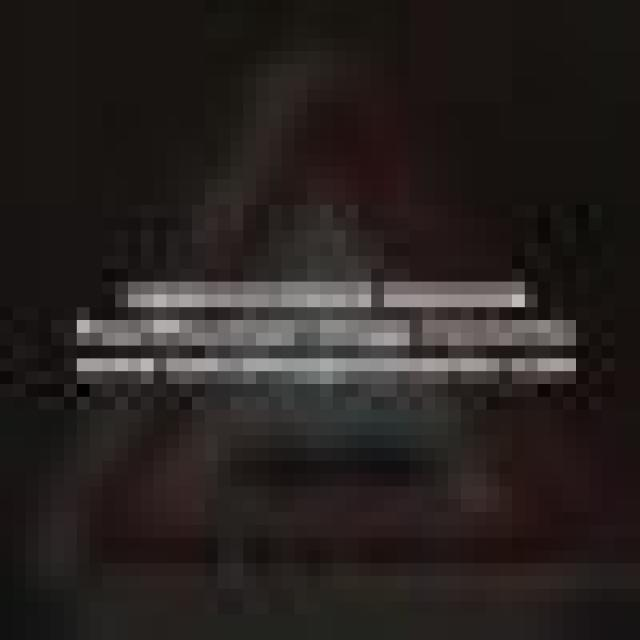horn_prohibited: (26, 26, 614, 588)
